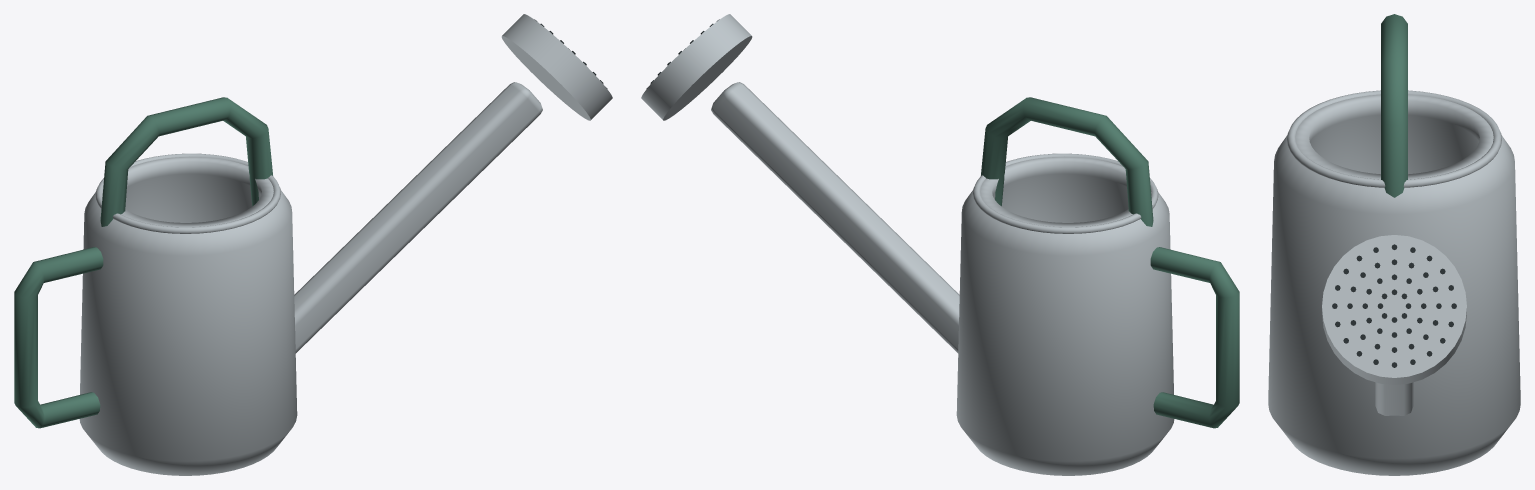
The model's file is outdoor-watering-can.glb.
3 renders of one model, left to right at view 1: azimuth 30°, elevation 25°; view 2: azimuth 150°, elevation 25°; view 3: azimuth 270°, elevation 25°, orthographic. The views are drawn at different scales.
Parts seen in each view (by area): view 1: outdoor-watering-can authored assembly; view 2: outdoor-watering-can authored assembly; view 3: outdoor-watering-can authored assembly.
Part boxes in pixels (x1=…): outdoor-watering-can authored assembly: x1=14, y1=14, x2=612, y2=475; outdoor-watering-can authored assembly: x1=641, y1=14, x2=1239, y2=475; outdoor-watering-can authored assembly: x1=1268, y1=14, x2=1520, y2=475.
Bounding box in the file's own units: 0.7 × 0.38 × 0.22.
